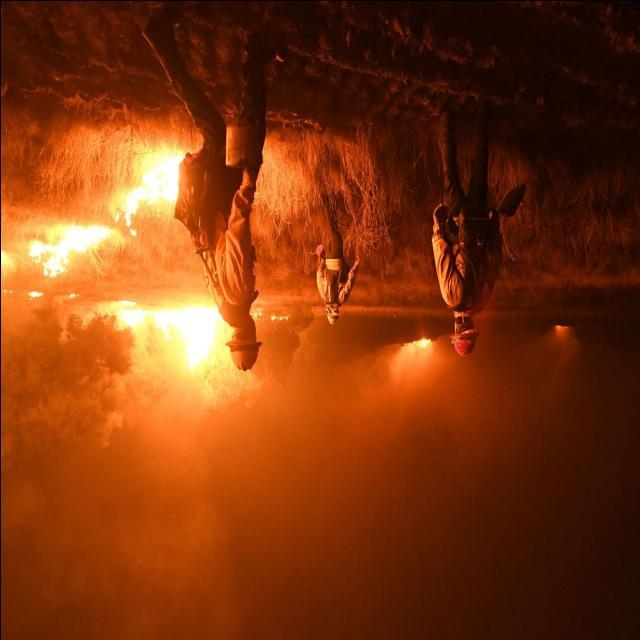Fire: (0, 135, 193, 281), (110, 300, 256, 424)
